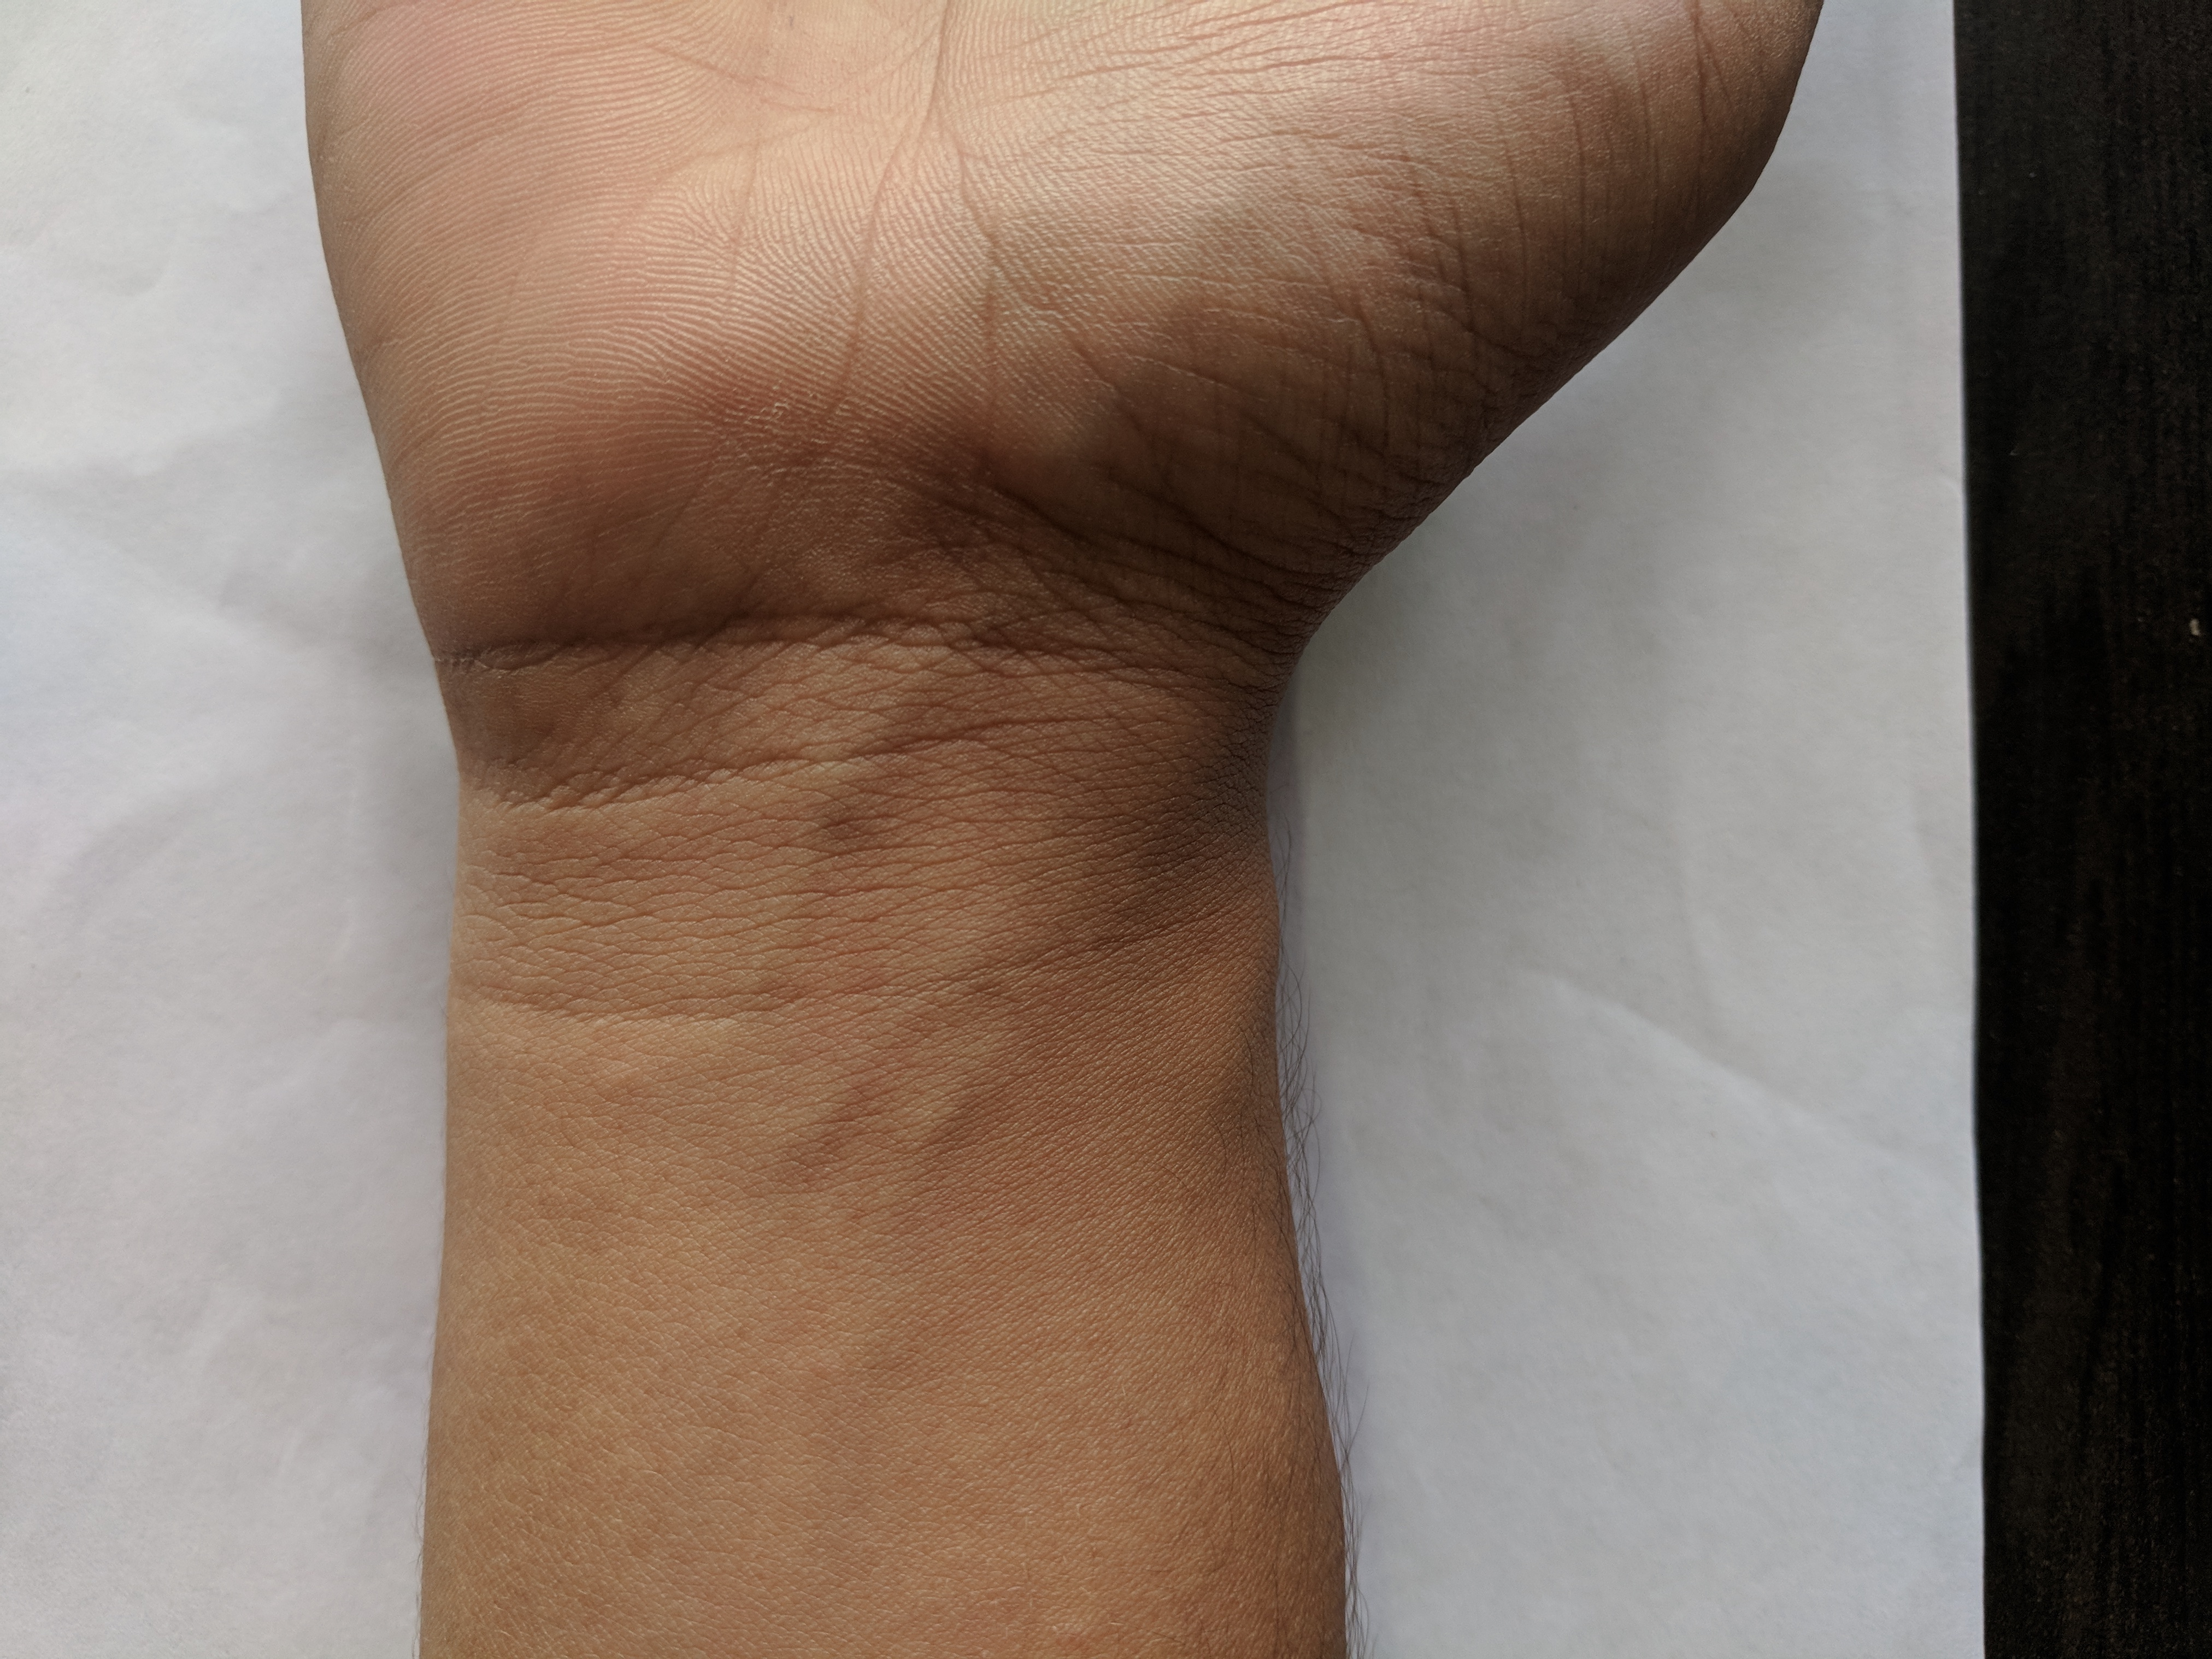righthandwrist: (406, 586, 1362, 960)
